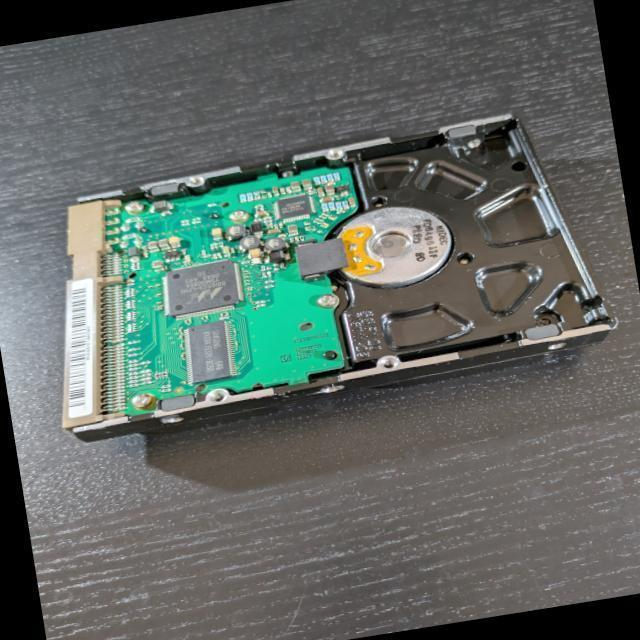DISK: (23, 98, 626, 450)
